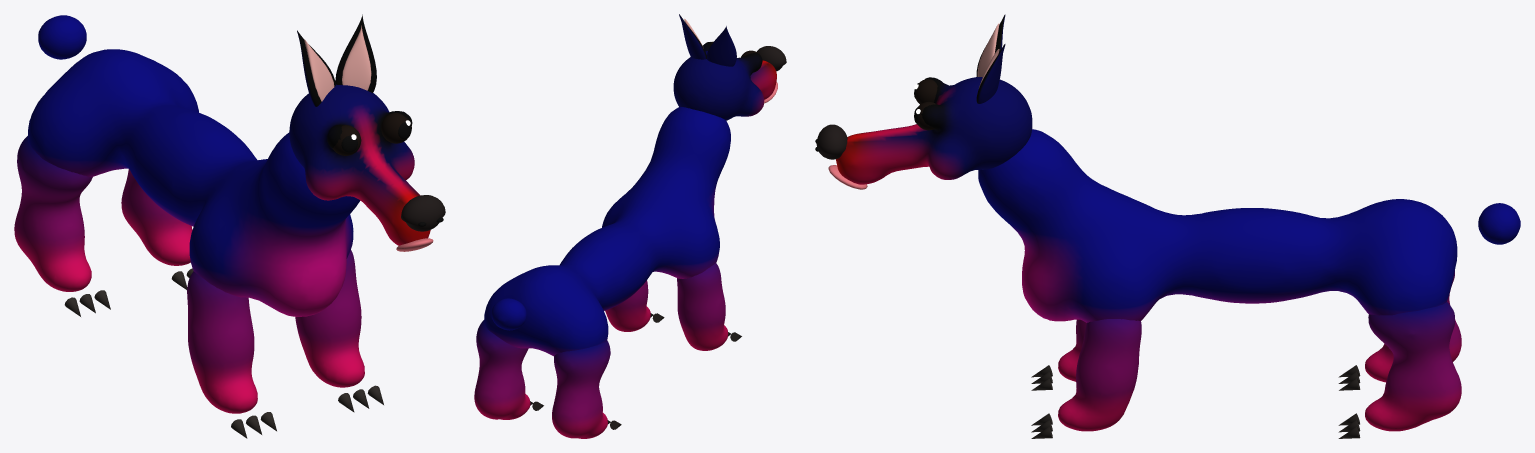
File: pet_corgi.glb
3 renders of one model, left to right at view 1: azimuth 30°, elevation 25°; view 2: azimuth 150°, elevation 25°; view 3: azimuth 270°, elevation 25°, orthographic. The views are drawn at different scales.
Visible parts, largest first — view 1: Fur_Body, Fur_Head, Fur_LegBL, Fur_LegFL, Fur_LegFR, Fur_LegBR, Fur_Tail, Nose, EarInnerR, Fur_EarR, EarInnerL, Fur_EarL (+1 smaller); view 2: Fur_Body, Fur_Head, Fur_LegBL, Fur_LegBR, Fur_LegFL, Fur_LegFR, Fur_Tail, Fur_EarL, Fur_EarR, Nose; view 3: Fur_Body, Fur_Head, Fur_LegBR, Fur_LegFR, Fur_Tail, Fur_LegBL, Nose, Fur_LegFL, Fur_EarR.
Part boxes in pixels (bbox=[...]): Fur_Body: bbox=[28, 49, 360, 316]; Fur_Head: bbox=[289, 84, 430, 245]; Fur_LegBL: bbox=[14, 136, 92, 291]; Fur_LegFL: bbox=[187, 271, 257, 413]; Fur_LegFR: bbox=[295, 250, 364, 387]; Fur_LegBR: bbox=[121, 169, 192, 265]; Fur_Tail: bbox=[38, 15, 86, 59]; Nose: bbox=[401, 195, 445, 231]; EarInnerR: bbox=[342, 25, 371, 90]; Fur_EarR: bbox=[335, 14, 376, 92]; EarInnerL: bbox=[304, 39, 334, 101]; Fur_EarL: bbox=[297, 30, 335, 106]; Fur_Body: bbox=[484, 106, 730, 356]; Fur_Head: bbox=[673, 42, 776, 120]; Fur_LegBL: bbox=[552, 340, 610, 438]; Fur_LegBR: bbox=[474, 320, 530, 419]; Fur_LegFL: bbox=[677, 263, 728, 350]; Fur_LegFR: bbox=[605, 280, 650, 331]; Fur_Tail: bbox=[491, 298, 526, 330]; Fur_EarL: bbox=[707, 26, 736, 66]; Fur_EarR: bbox=[679, 14, 706, 59]; Nose: bbox=[756, 46, 786, 71]; Fur_Body: bbox=[978, 129, 1457, 322]; Fur_Head: bbox=[836, 77, 1032, 184]; Fur_LegBR: bbox=[1365, 302, 1461, 431]; Fur_LegFR: bbox=[1058, 319, 1141, 431]; Fur_Tail: bbox=[1478, 203, 1520, 244]; Fur_LegBL: bbox=[1365, 270, 1461, 382]; Nose: bbox=[816, 124, 847, 159]; Fur_LegFL: bbox=[1058, 319, 1086, 381]; Fur_EarR: bbox=[976, 44, 1005, 103].
Bounding box in the file's own units: 0.1858 × 0.4249 × 0.7164.
